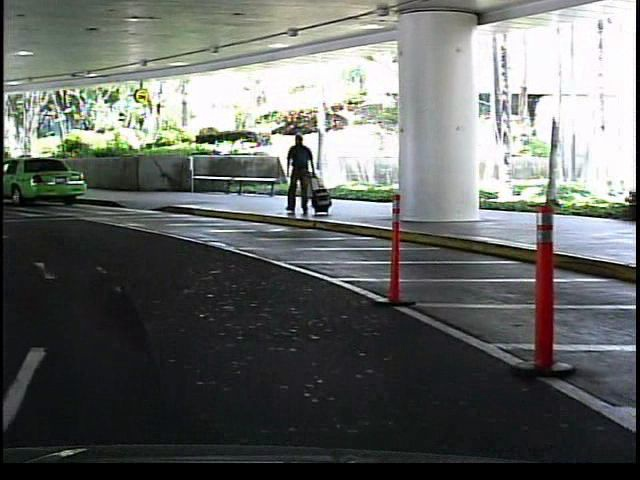person: (282, 126, 321, 221)
